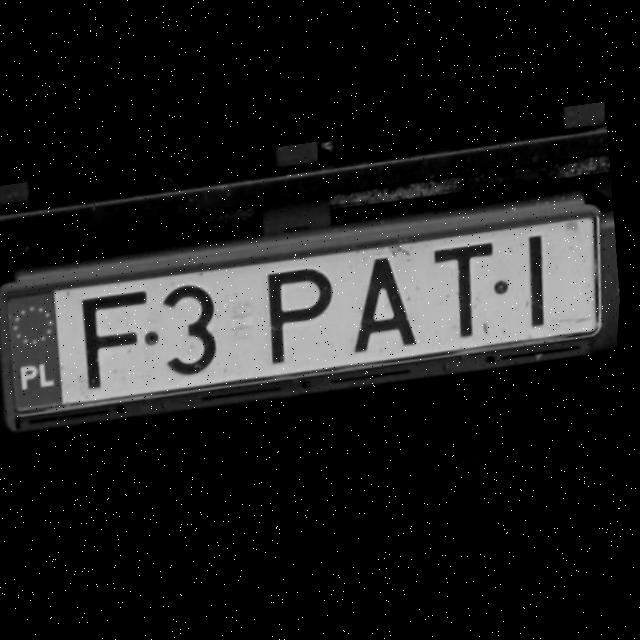license-plates: (5, 215, 602, 415)
